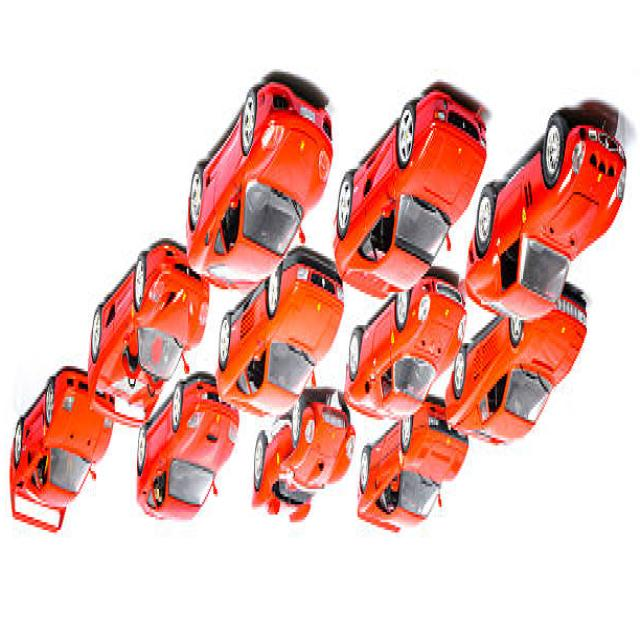Car: (466, 113, 628, 325), (332, 87, 488, 302), (186, 80, 334, 294), (446, 287, 588, 448), (88, 243, 210, 430), (216, 248, 345, 420), (344, 274, 468, 422), (9, 369, 115, 535), (358, 399, 470, 535), (136, 377, 240, 522), (252, 392, 356, 524)
